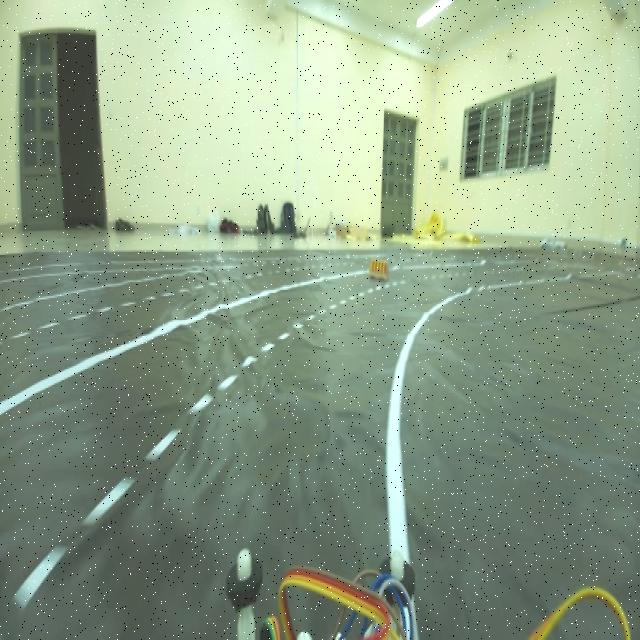roadblock: (367, 249, 388, 283)
